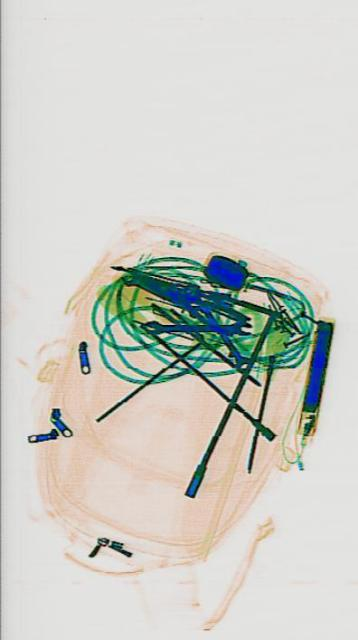Wrench: (178, 274, 250, 378), (140, 318, 248, 334)
